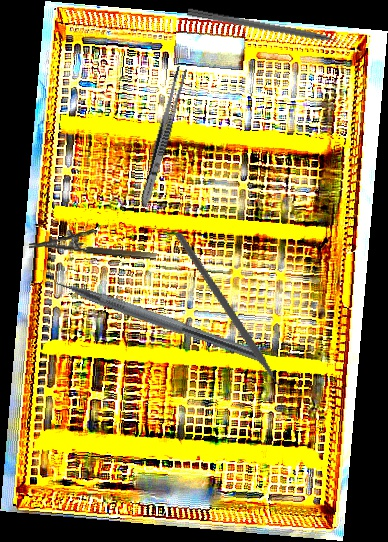Chopper: (126, 231, 332, 412), (37, 259, 269, 363)
Dressing Forceps: (137, 63, 189, 210)
Needle Holder: (28, 222, 159, 262)
Pusher: (186, 7, 358, 51)
